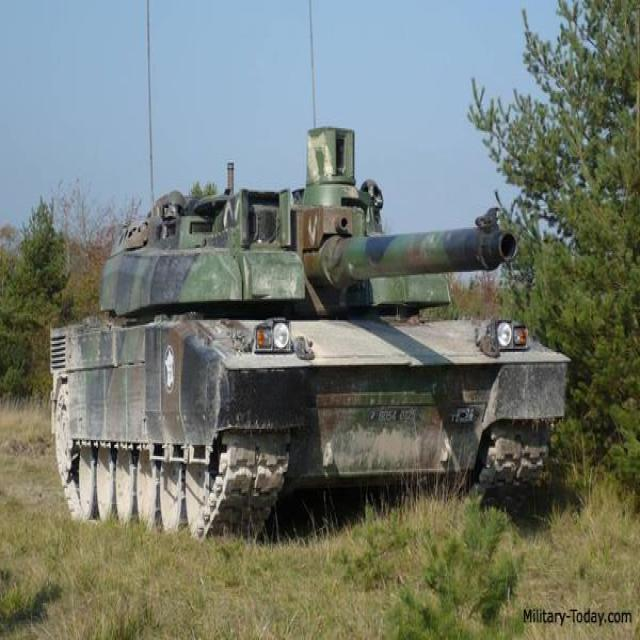Tanks: (28, 58, 571, 590)
